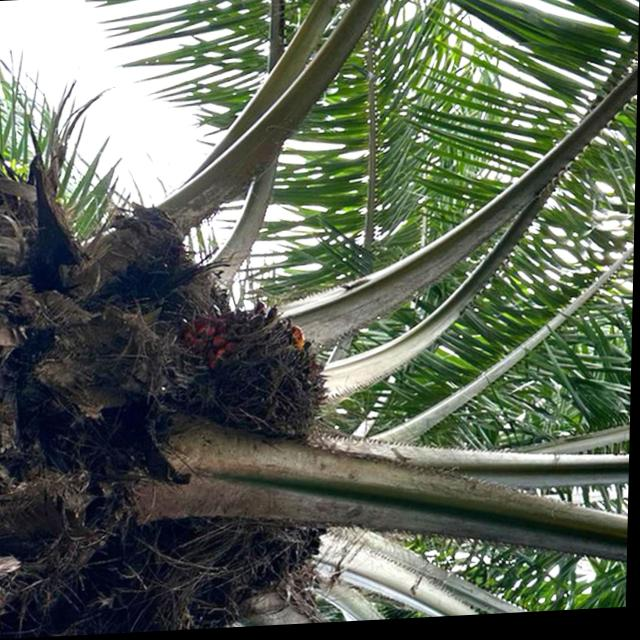ripe: (162, 282, 350, 470)
